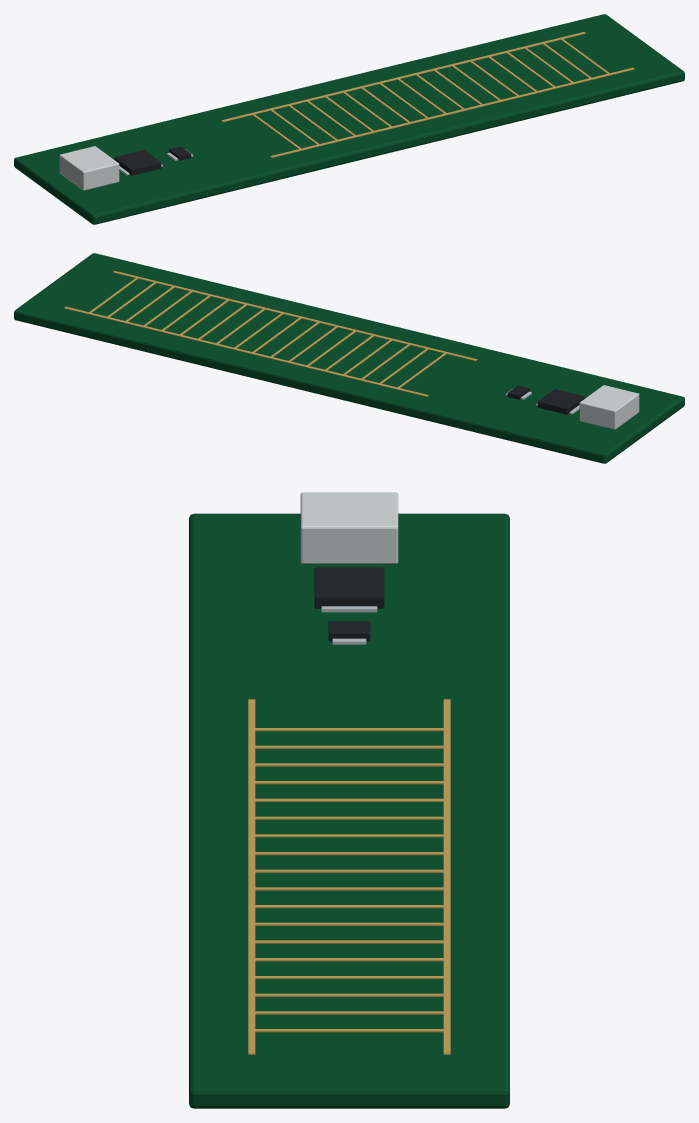
Rendered from moisture_probe_sen0193.glb.
The picture shows the model from 3 angles, top to bottom: view 1: azimuth 30°, elevation 25°; view 2: azimuth 150°, elevation 25°; view 3: azimuth 270°, elevation 25°; orthographic projection. The views are drawn at different scales.
Visible parts, largest first — view 1: part_moisture_probe_sen0193__pcb, part_moisture_probe_sen0193__brass, part_moisture_probe_sen0193__polymer, part_moisture_probe_sen0193__black_polymer; view 2: part_moisture_probe_sen0193__pcb, part_moisture_probe_sen0193__brass, part_moisture_probe_sen0193__polymer, part_moisture_probe_sen0193__black_polymer; view 3: part_moisture_probe_sen0193__pcb, part_moisture_probe_sen0193__brass, part_moisture_probe_sen0193__polymer, part_moisture_probe_sen0193__black_polymer.
Part boxes in pixels (bbox=[...]): part_moisture_probe_sen0193__pcb: bbox=[14, 14, 684, 224]; part_moisture_probe_sen0193__brass: bbox=[221, 32, 634, 157]; part_moisture_probe_sen0193__polymer: bbox=[59, 146, 119, 190]; part_moisture_probe_sen0193__black_polymer: bbox=[114, 146, 191, 175]; part_moisture_probe_sen0193__pcb: bbox=[14, 253, 684, 463]; part_moisture_probe_sen0193__brass: bbox=[64, 271, 477, 396]; part_moisture_probe_sen0193__polymer: bbox=[579, 385, 639, 429]; part_moisture_probe_sen0193__black_polymer: bbox=[507, 385, 584, 414]; part_moisture_probe_sen0193__pcb: bbox=[189, 513, 509, 1108]; part_moisture_probe_sen0193__brass: bbox=[248, 699, 450, 1054]; part_moisture_probe_sen0193__polymer: bbox=[300, 492, 398, 563]; part_moisture_probe_sen0193__black_polymer: bbox=[314, 567, 384, 641].
Size of the model in its own units: 0.098 by 0.0046 by 0.023.
